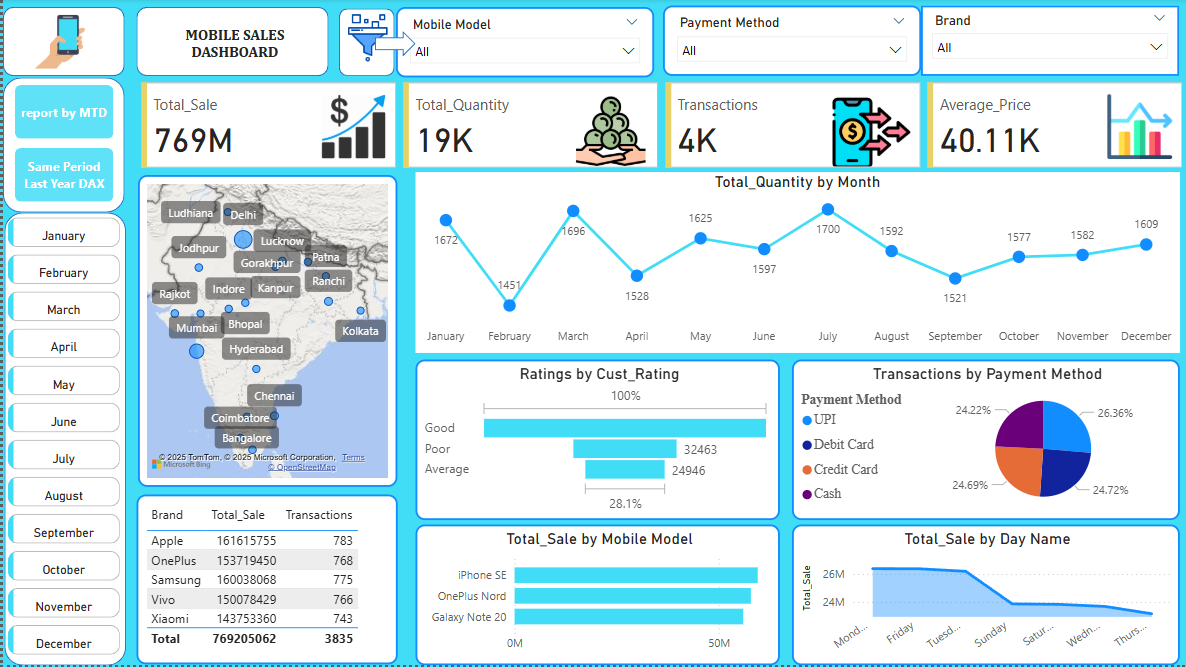

This screenshot's page, from the dashboard's own definition file:
{"tool":"powerbi","page":{"name":"Dashboard","canvas":[1280,720],"ordinal":0},"visuals":[{"type":"shape","box":[0,9.7,131.2,74.5],"z":0},{"type":"shape","box":[0,85.8,131.2,145.7],"z":1000},{"type":"shape","box":[1.6,231.5,131.2,489],"z":2000},{"type":"advancedSlicerVisual","fields":{"Values":["Cutom_Calender.Date.Variation.Date Hierarchy.Month"]},"box":[0,231.5,131.2,489],"z":3000},{"type":"cardVisual","fields":{"Data":["Sales_Data.Total_Sale","Sales_Data.Total_Quantity","Sales_Data.Transactions","Sales_Data.Average_Price"]},"box":[144.1,85.8,1136.7,102],"z":4000},{"type":"slicer","fields":{"Values":["Sales_Data.Mobile Model"]},"box":[424.2,9.7,278.5,76.1],"z":5000},{"type":"slicer","fields":{"Values":["Sales_Data.Payment Method"]},"box":[712.5,8.1,278.5,76.1],"z":6000},{"type":"slicer","fields":{"Values":["Sales_Data.Brand"]},"box":[991,8.1,278.5,76.1],"z":7000},{"type":"map","fields":{"Category":["Sales_Data.City"],"Size":["Sales_Data.Total_Sale"]},"box":[145,191.7,280,336.7],"z":8000},{"type":"lineChart","fields":{"Category":["Cutom_Calender.Date.Variation.Date Hierarchy.Month"],"Y":["Sales_Data.Total_Quantity"]},"box":[445,188.3,825,195],"z":9000},{"type":"shape","box":[144.1,9.7,207.3,74.5],"z":10000},{"type":"shape","box":[362.7,11.3,59.9,72.9],"z":11000},{"type":"textbox","box":[161.9,24.3,176.5,50.2],"z":12000},{"type":"image","box":[268.8,11.3,249.4,63.1],"z":13000},{"type":"shape","box":[401.6,35.6,43.7,27.5],"z":14000},{"type":"image","box":[1.6,13,118.2,74.5],"z":15000},{"type":"funnel","title":"Ratings by Cust_Rating","fields":{"Y":["Sum(Sales_Data.Customer Age)"],"Category":["Sales_Data.Cust_Rating"]},"box":[445,390,393.3,173.3],"z":16000},{"type":"pieChart","fields":{"Category":["Sales_Data.Payment Method"],"Y":["Sales_Data.Transactions"]},"box":[851.7,390,418.3,173.3],"z":17000},{"type":"clusteredBarChart","fields":{"Y":["Sales_Data.Total_Sale"],"Category":["Sales_Data.Mobile Model"]},"box":[445,568.3,393.3,151.7],"z":18000},{"type":"areaChart","fields":{"Y":["Sales_Data.Total_Sale"],"Category":["Cutom_Calender.Day Name"]},"box":[851.7,568.3,418.3,151.7],"z":19000},{"type":"tableEx","fields":{"Values":["Sales_Data.Brand","Sales_Data.Total_Sale","Sales_Data.Transactions"]},"box":[143.3,536.7,281.7,183.3],"z":20000},{"type":"pageNavigator","box":[13,93.9,106.9,127.9],"z":21000}]}

Visuals, with their boxes in screenshot pixels (x1, y1, x2, y2), scaled from the page's 1280x720 canvas onto the 1186x667 screenshot:
shape: (x1=0, y1=9, x2=122, y2=78)
shape: (x1=0, y1=79, x2=122, y2=214)
shape: (x1=1, y1=214, x2=123, y2=666)
advancedSlicerVisual - Cutom_Calender.Date.Variation.Date Hierarchy.Month: (x1=0, y1=214, x2=122, y2=666)
cardVisual - Sales_Data.Total_Sale x Sales_Data.Total_Quantity: (x1=134, y1=79, x2=1185, y2=174)
slicer - Sales_Data.Mobile Model: (x1=393, y1=9, x2=651, y2=79)
slicer - Sales_Data.Payment Method: (x1=660, y1=8, x2=918, y2=78)
slicer - Sales_Data.Brand: (x1=918, y1=8, x2=1176, y2=78)
map - Sales_Data.City x Sales_Data.Total_Sale: (x1=134, y1=178, x2=394, y2=490)
lineChart - Cutom_Calender.Date.Variation.Date Hierarchy.Month x Sales_Data.Total_Quantity: (x1=412, y1=174, x2=1177, y2=355)
shape: (x1=134, y1=9, x2=326, y2=78)
shape: (x1=336, y1=10, x2=392, y2=78)
textbox: (x1=150, y1=23, x2=314, y2=69)
image: (x1=249, y1=10, x2=480, y2=69)
shape: (x1=372, y1=33, x2=413, y2=58)
image: (x1=1, y1=12, x2=111, y2=81)
"Ratings by Cust_Rating" funnel: (x1=412, y1=361, x2=777, y2=522)
pieChart - Sales_Data.Payment Method x Sales_Data.Transactions: (x1=789, y1=361, x2=1177, y2=522)
clusteredBarChart - Sales_Data.Total_Sale x Sales_Data.Mobile Model: (x1=412, y1=526, x2=777, y2=666)
areaChart - Sales_Data.Total_Sale x Cutom_Calender.Day Name: (x1=789, y1=526, x2=1177, y2=666)
tableEx - Sales_Data.Brand x Sales_Data.Total_Sale: (x1=133, y1=497, x2=394, y2=666)
pageNavigator: (x1=12, y1=87, x2=111, y2=205)
